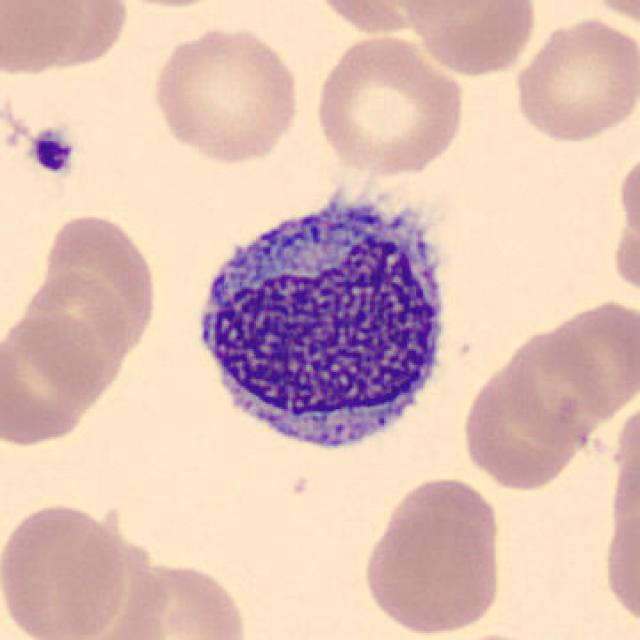Monocyte: (182, 173, 462, 469)
Platelets: (27, 125, 78, 178)
RBC: (466, 331, 615, 492), (310, 32, 470, 178), (148, 19, 304, 166), (359, 497, 507, 638), (0, 497, 130, 640), (37, 208, 162, 356), (7, 261, 138, 399), (508, 14, 638, 146), (0, 307, 114, 451), (501, 316, 633, 440), (89, 557, 254, 640), (373, 472, 505, 568), (398, 0, 540, 78), (0, 0, 137, 79), (549, 296, 640, 414), (306, 0, 480, 37), (599, 503, 640, 631), (618, 146, 640, 286), (579, 0, 640, 31), (99, 0, 243, 12)
